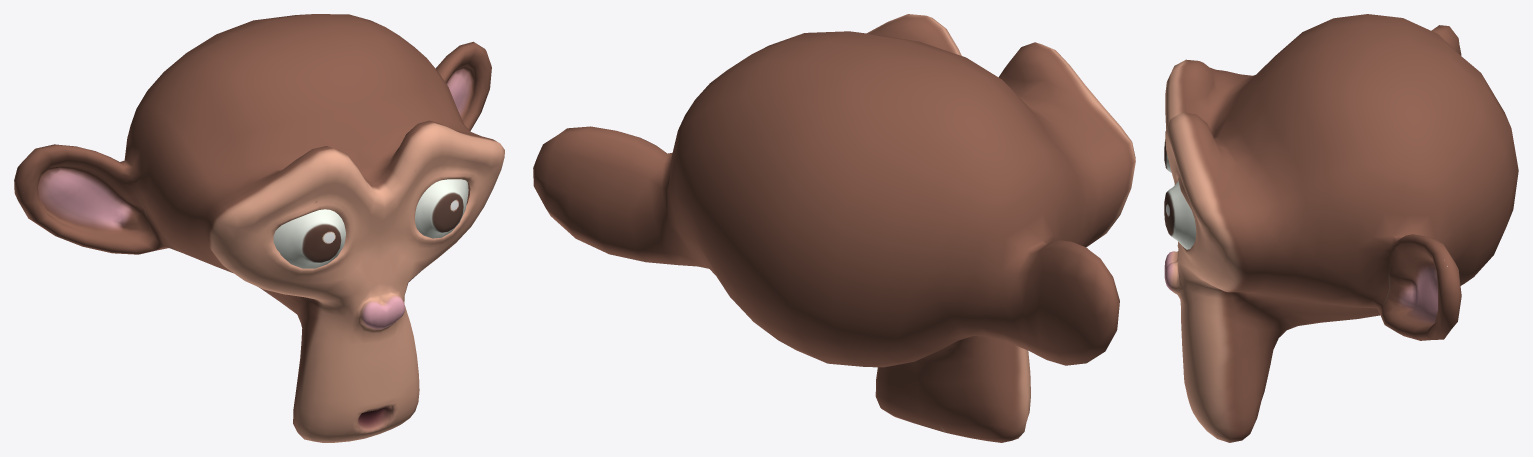
Rendered from Suzanne.obj.
The picture shows the model from 3 angles, left to right: view 1: azimuth 30°, elevation 25°; view 2: azimuth 150°, elevation 25°; view 3: azimuth 270°, elevation 25°; orthographic projection. The views are drawn at different scales.
Parts seen in each view (by area): view 1: Suzanne; view 2: Suzanne; view 3: Suzanne.
Boxes of the visible parts, <box> form: Suzanne: <box>14,14,504,442</box>; Suzanne: <box>533,14,1135,442</box>; Suzanne: <box>1164,14,1518,442</box>.
Size of the model in its own units: 2.65 by 1.91 by 1.6.
